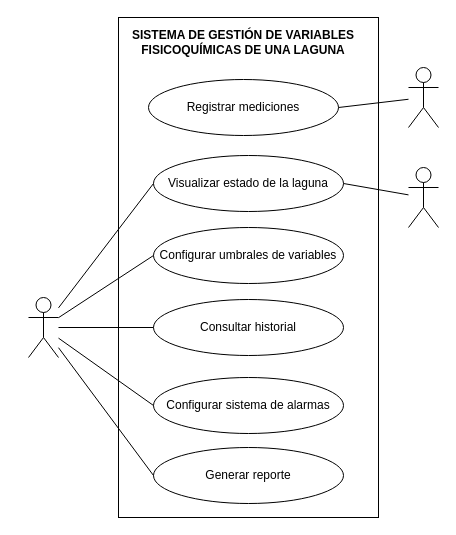
The diagram is 456 pixels wide and 535 high, and some of its shapes have lost their labels. The shapes that lost their labels are listed below. From the top down, each one's centre as x and y in pixels, then its label:
At point (423, 97): "ESP32".
At point (423, 197): "Gestor".
At point (43, 327): "Técnico ambiental".
